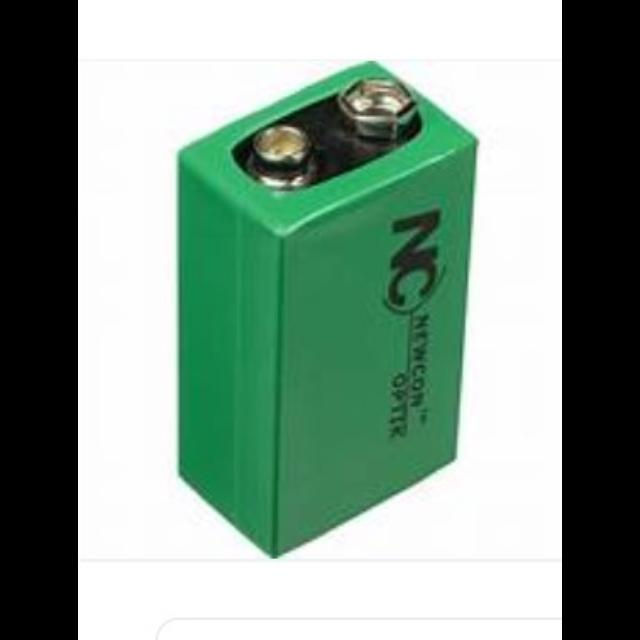Battery: (175, 61, 479, 562)
